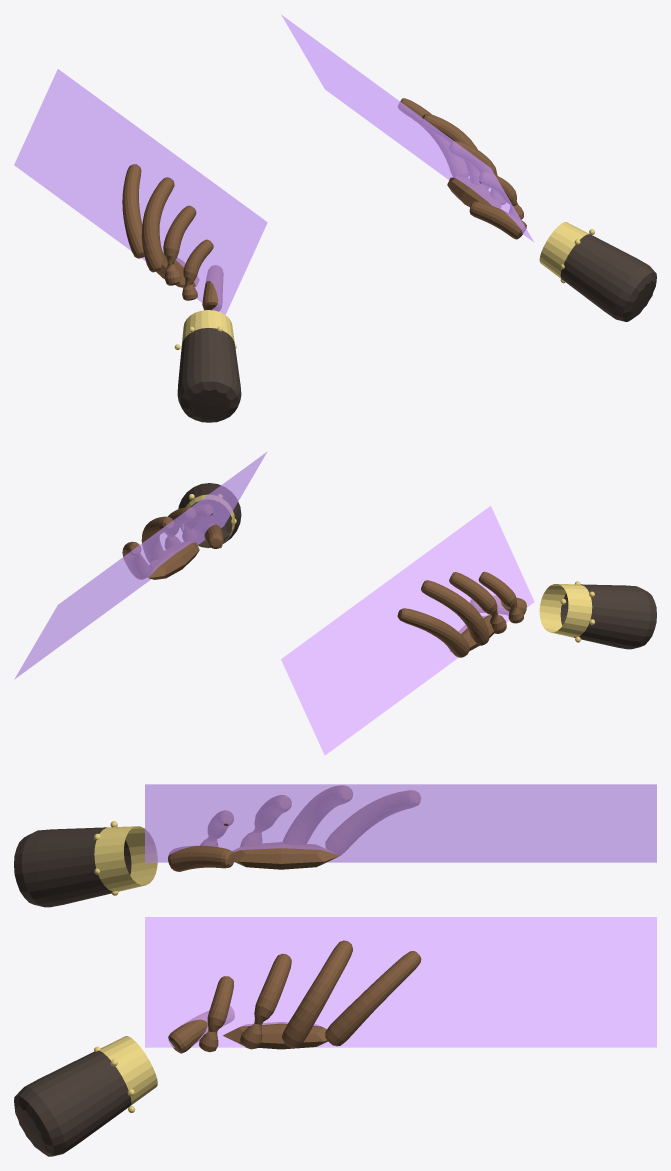
Rendered from PrivacyShield.glb.
3 renders of one model, top to bottom at view 1: azimuth 30°, elevation 25°; view 2: azimuth 150°, elevation 25°; view 3: azimuth 270°, elevation 25°, orthographic. The views are drawn at different scales.
Parts seen in each view (by area): view 1: Privacy_Shield_Aura, Hand_Left, Hand_Right; view 2: Privacy_Shield_Aura, Hand_Left, Hand_Right; view 3: Privacy_Shield_Aura, Hand_Right, Hand_Left.
Part boxes in pixels (box(x1,y1,x2,y2)): Privacy_Shield_Aura: box(14, 14, 534, 314); Hand_Left: box(122, 164, 241, 422); Hand_Right: box(398, 98, 656, 321); Privacy_Shield_Aura: box(14, 451, 534, 755); Hand_Left: box(397, 571, 656, 657); Hand_Right: box(122, 483, 241, 579); Privacy_Shield_Aura: box(145, 784, 656, 1047); Hand_Right: box(14, 940, 421, 1156); Hand_Left: box(14, 785, 420, 907).
Size of the model in its own units: 0.8102 by 0.2376 by 0.7786.
